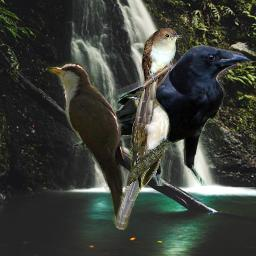Crow: (73, 45, 252, 186)
Cuckoo: (46, 62, 130, 232), (115, 91, 171, 229), (135, 27, 183, 127)
